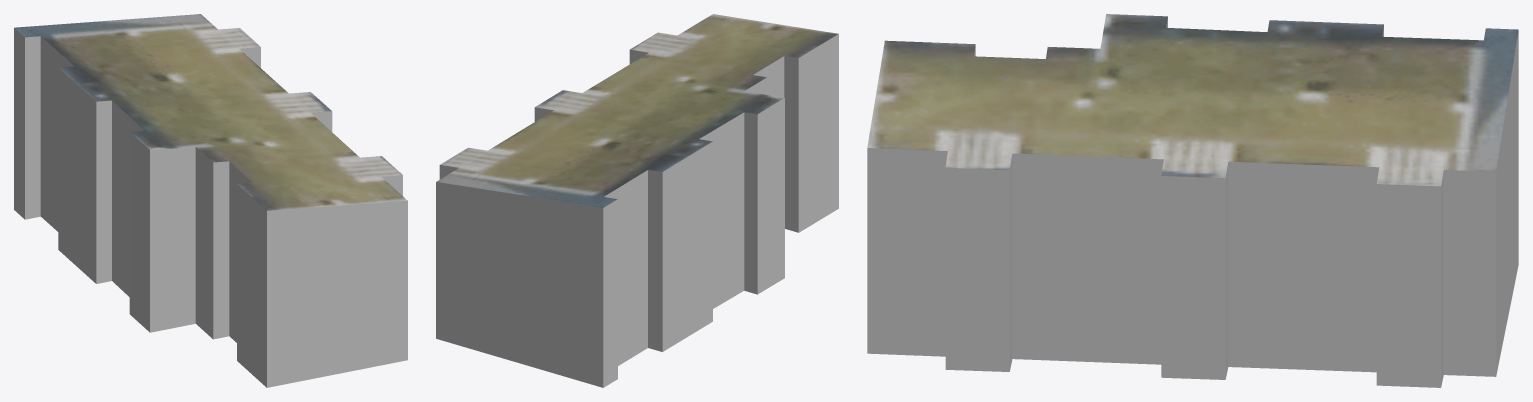
File: DEBW_0010007Tx7q.gltf
3 renders of one model, left to right at view 1: azimuth 30°, elevation 25°; view 2: azimuth 150°, elevation 25°; view 3: azimuth 270°, elevation 25°, orthographic. The views are drawn at different scales.
Parts seen in each view (by area): view 1: Z_UP; view 2: Z_UP; view 3: Z_UP.
Part boxes in pixels (bbox=[...]): Z_UP: bbox=[14, 14, 407, 387]; Z_UP: bbox=[436, 14, 838, 387]; Z_UP: bbox=[867, 14, 1518, 387].
Size of the model in its own units: 15.69 by 12.47 by 31.23.
2 materials, 1 textured.
